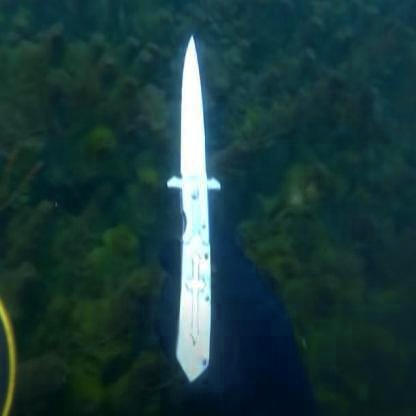misc: (155, 53, 225, 395)
